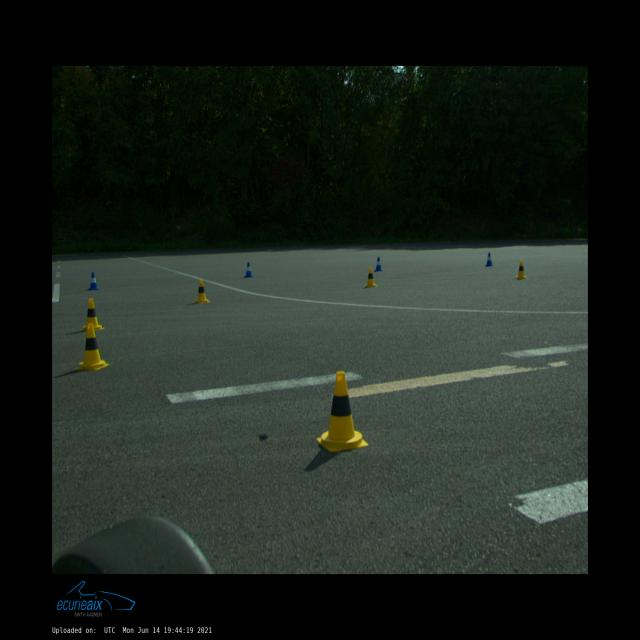blue_cone: (88, 272, 100, 290), (244, 262, 253, 278), (485, 252, 493, 266), (374, 257, 382, 271)
yellow_cone: (317, 372, 368, 452), (76, 324, 110, 370), (80, 298, 105, 332), (193, 280, 211, 304), (364, 268, 378, 288), (515, 260, 528, 280)
